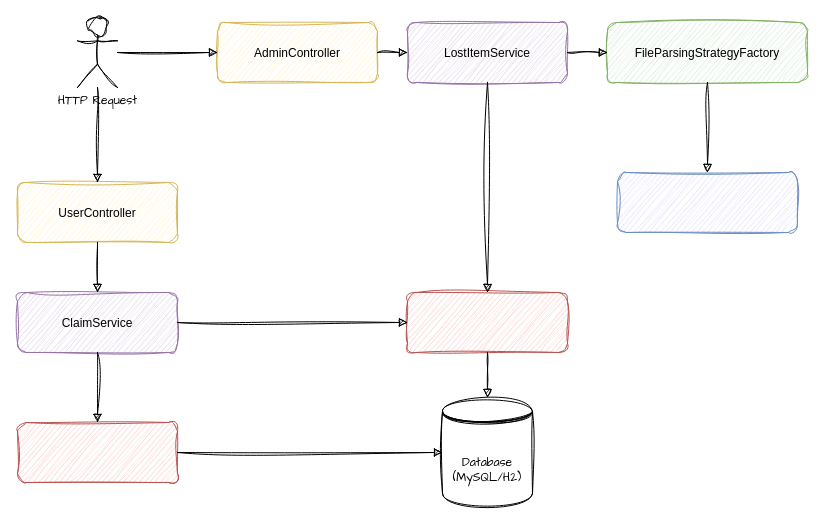
The diagram is 825 pixels wide and 525 high, and some of its shapes have lost their labels. The box of each missing label's shape, as (x1, y1, x2, y2) in pixels:
ClaimRepositor: (16, 422, 178, 482)
LostItemRepository: (406, 292, 568, 352)
PdfParsingStrategy: (616, 172, 798, 232)
